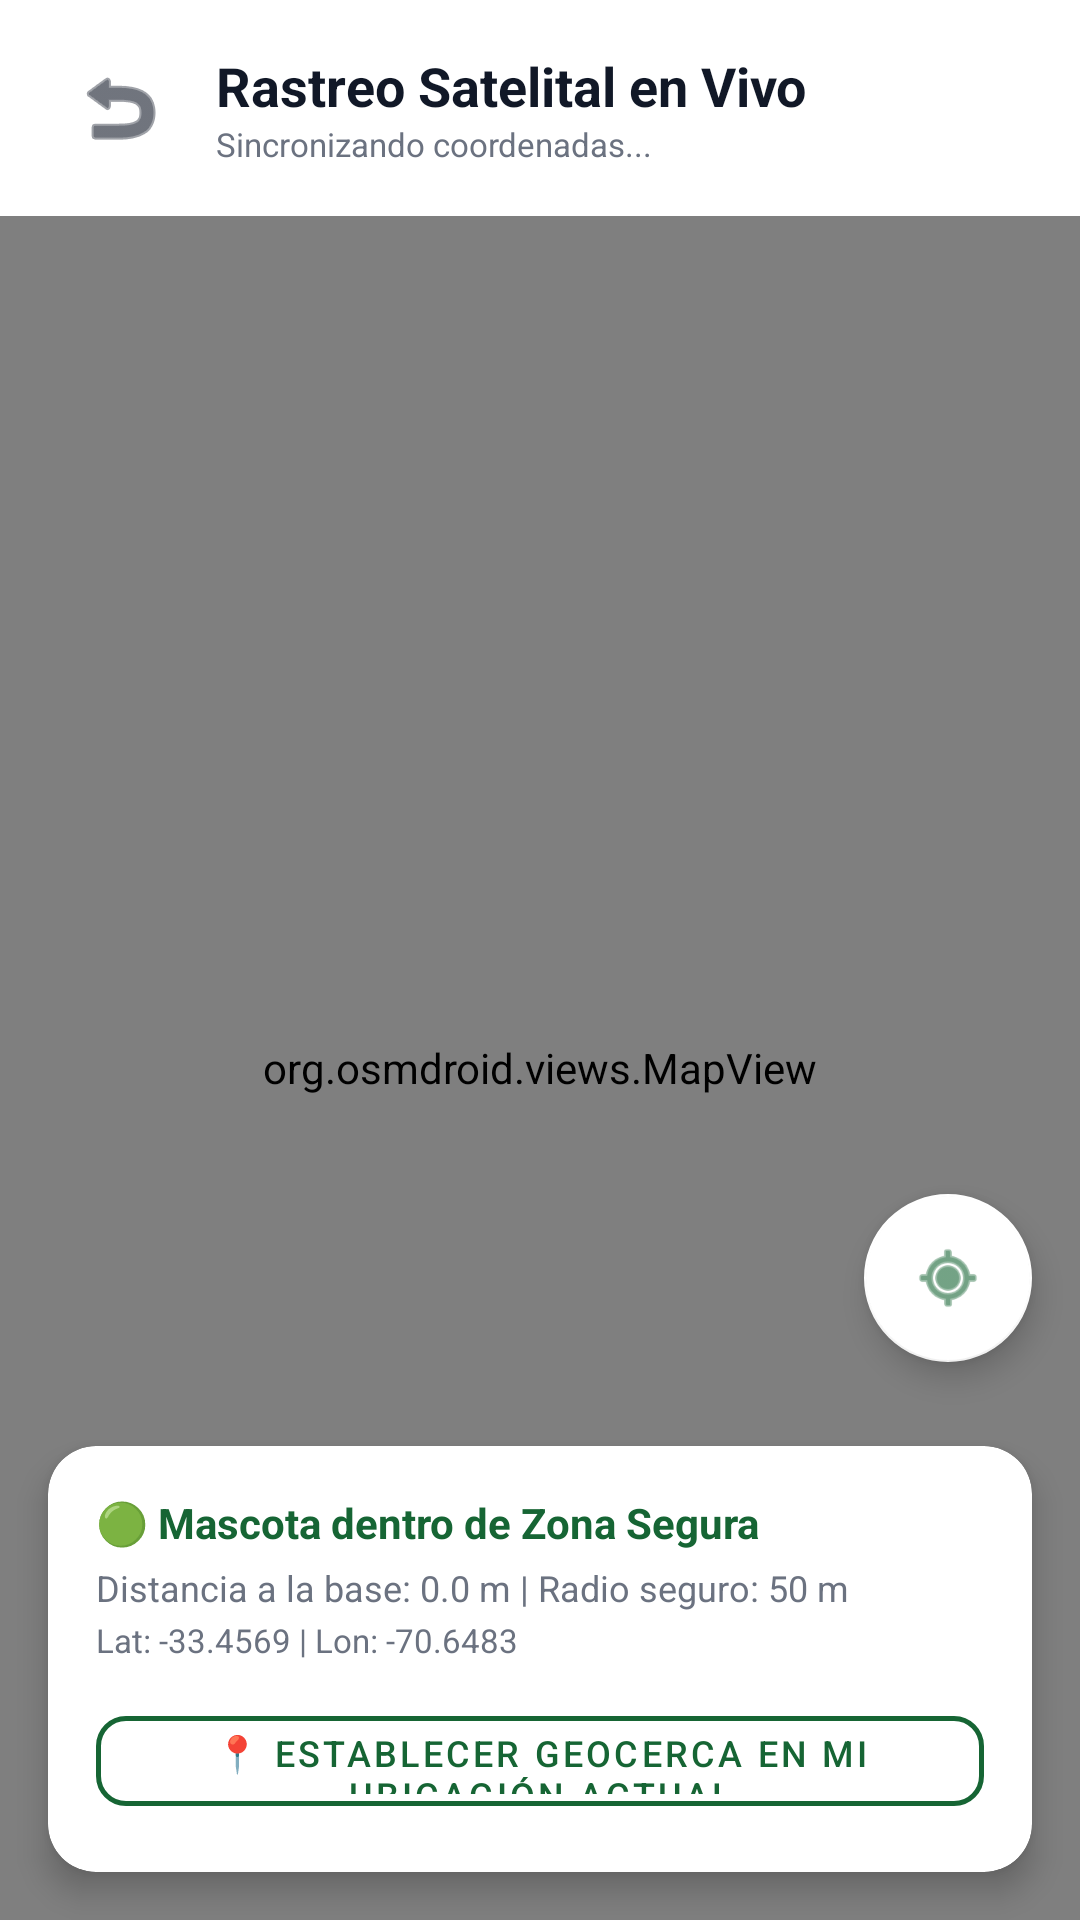

Named icons in this screenshot (1080 x 1920) and their bounding boxes, (x1, y1, x2, y2):
Atrás: (87, 77, 156, 140)
Mi ubicación: (864, 1194, 1032, 1362)
